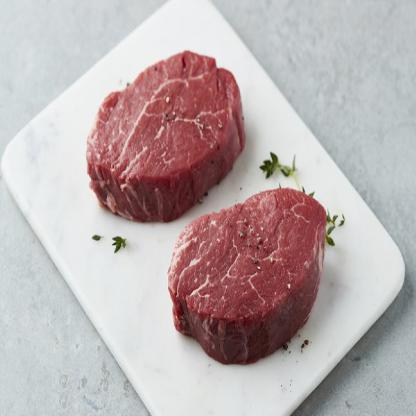beef: (160, 187, 332, 354), (78, 51, 243, 197)
